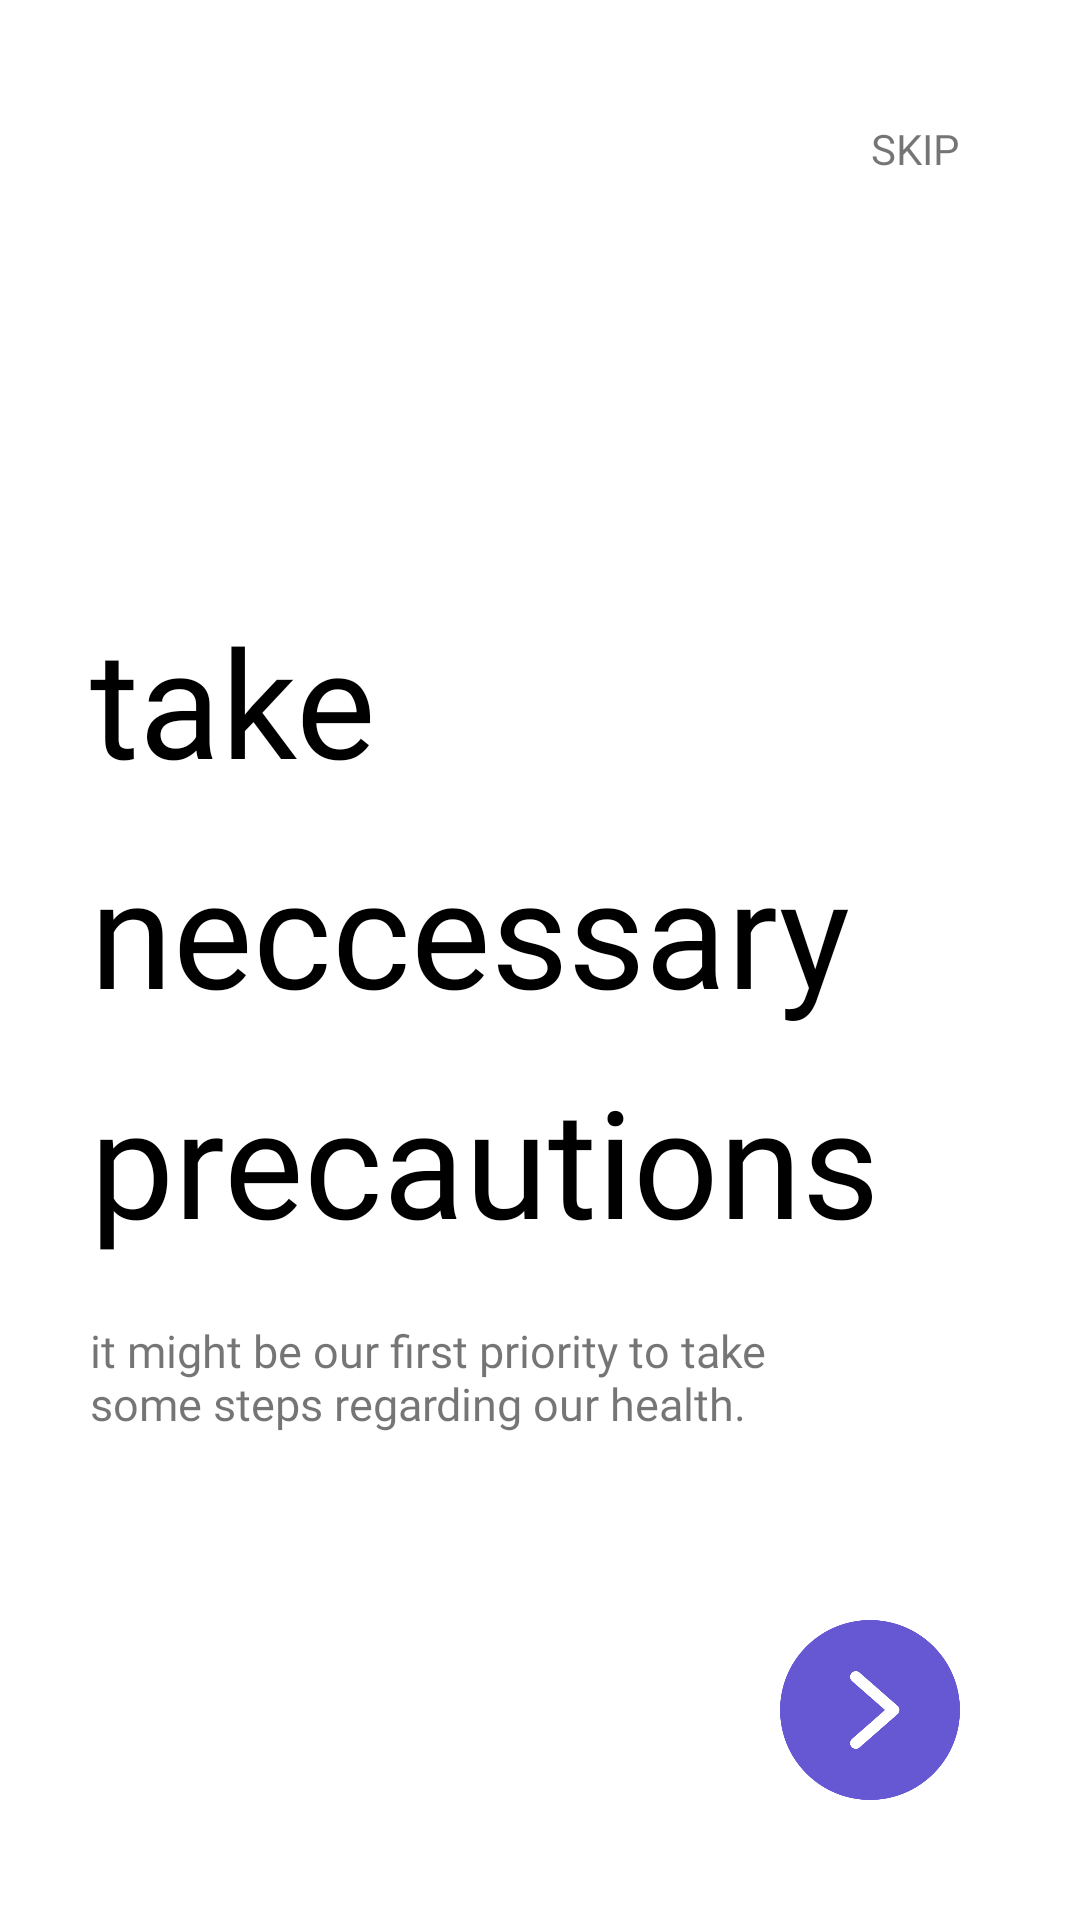

Named icons in this screenshot (1080w x 1920h) and their bounding boxes, (x1, y1, x2, y2):
nextbutton: (780, 1620, 960, 1800)
